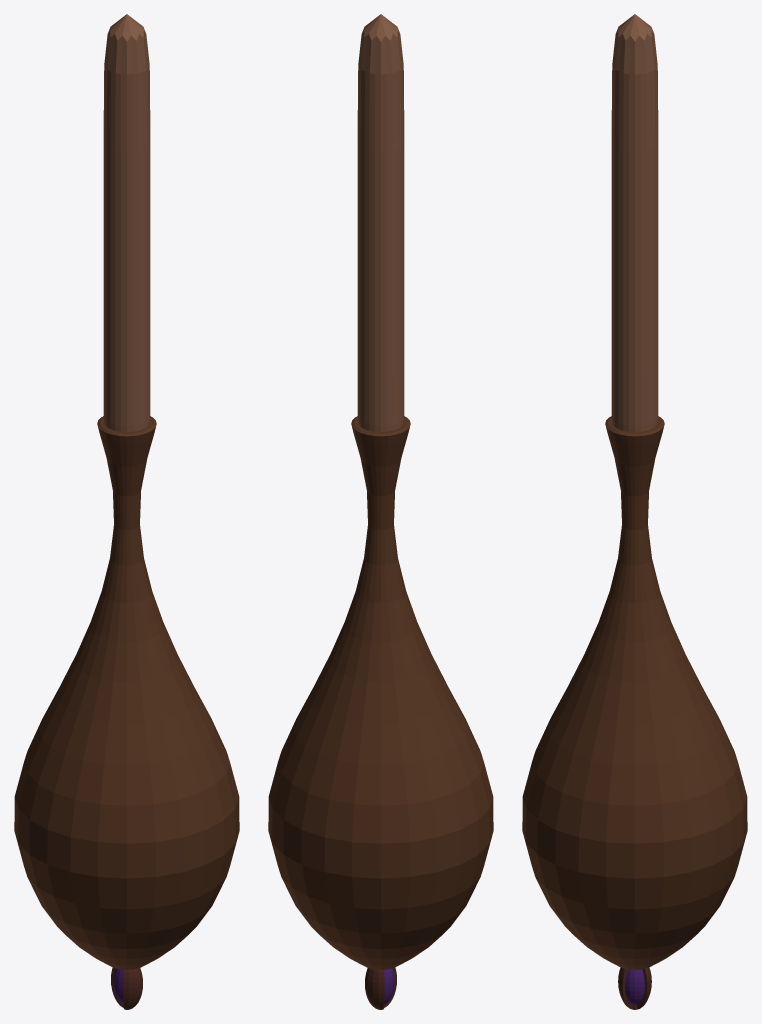
The model's file is Wand 917.glb.
The picture shows the model from 3 angles, left to right: view 1: azimuth 30°, elevation 25°; view 2: azimuth 150°, elevation 25°; view 3: azimuth 270°, elevation 25°; orthographic projection.
Visible parts, largest first — view 1: GeneratedWand; view 2: GeneratedWand; view 3: GeneratedWand.
Part boxes in pixels (x1,y1,x2,y2): GeneratedWand: (14, 14, 239, 1009); GeneratedWand: (268, 14, 493, 1009); GeneratedWand: (522, 14, 747, 1009).
Bounding box in the file's own units: 0.1026 × 0.5002 × 0.1026.
